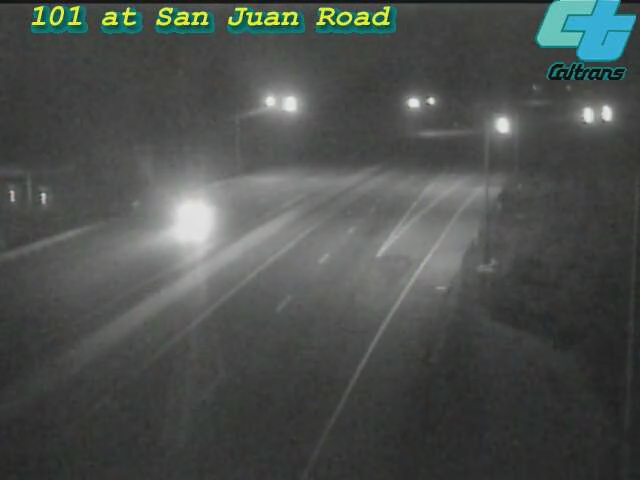vehicle: (155, 175, 235, 255), (479, 101, 529, 151), (564, 91, 614, 141), (579, 88, 629, 138)
